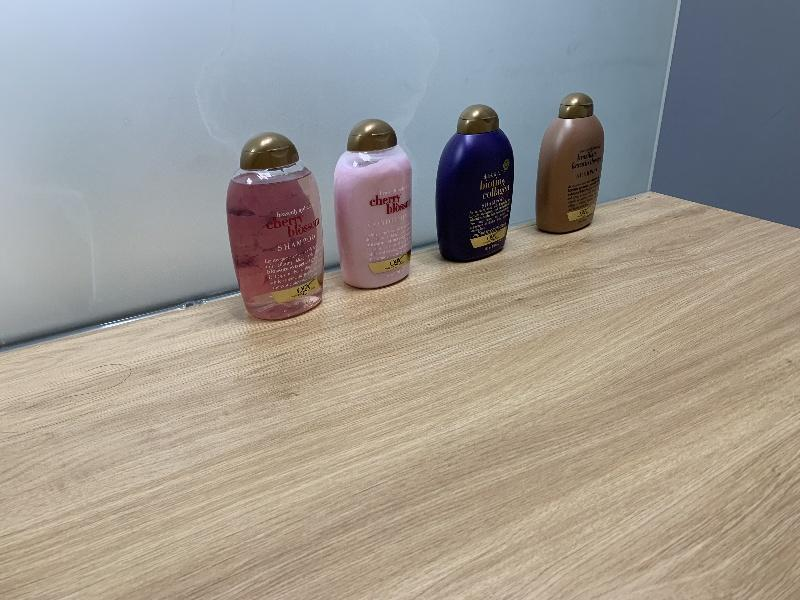BiotinCollagen_Shampoo: (436, 104, 514, 262)
BrazilianKeratinTherapy_Shampoo: (536, 93, 604, 234)
CherryBlossom_Conditioner: (334, 119, 413, 289)
CherryBlossom_Shampoo: (226, 131, 324, 321)
